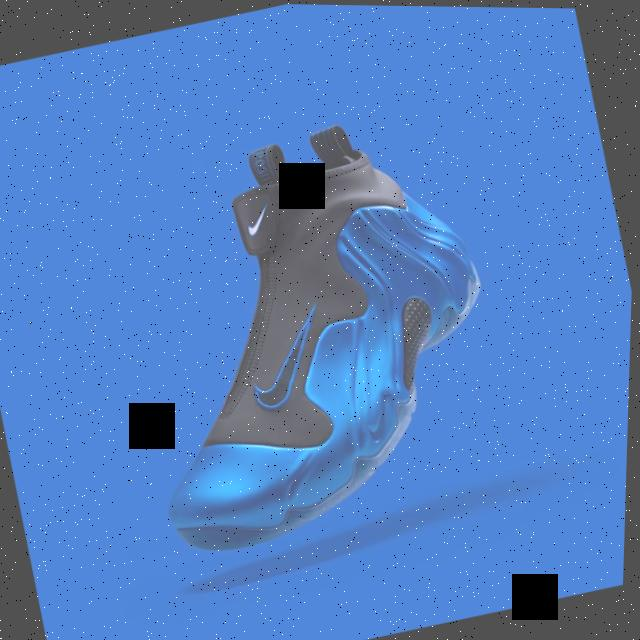shoes: (84, 92, 536, 570)
